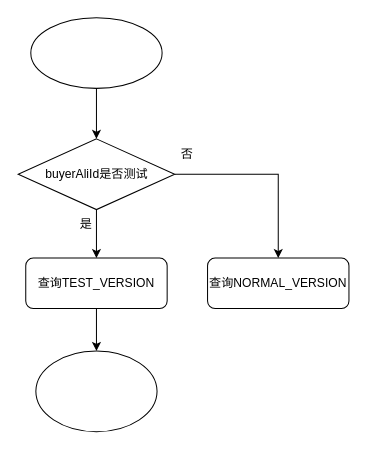
Some shapes in this 367 by 449 pixel diagram are drawn without their labels. Here are the shapes that lost their labels. From the top down, the centre of each, then its label:
At point 96,52: "获取期望skuCode列表".
At point 96,391: "结束".
